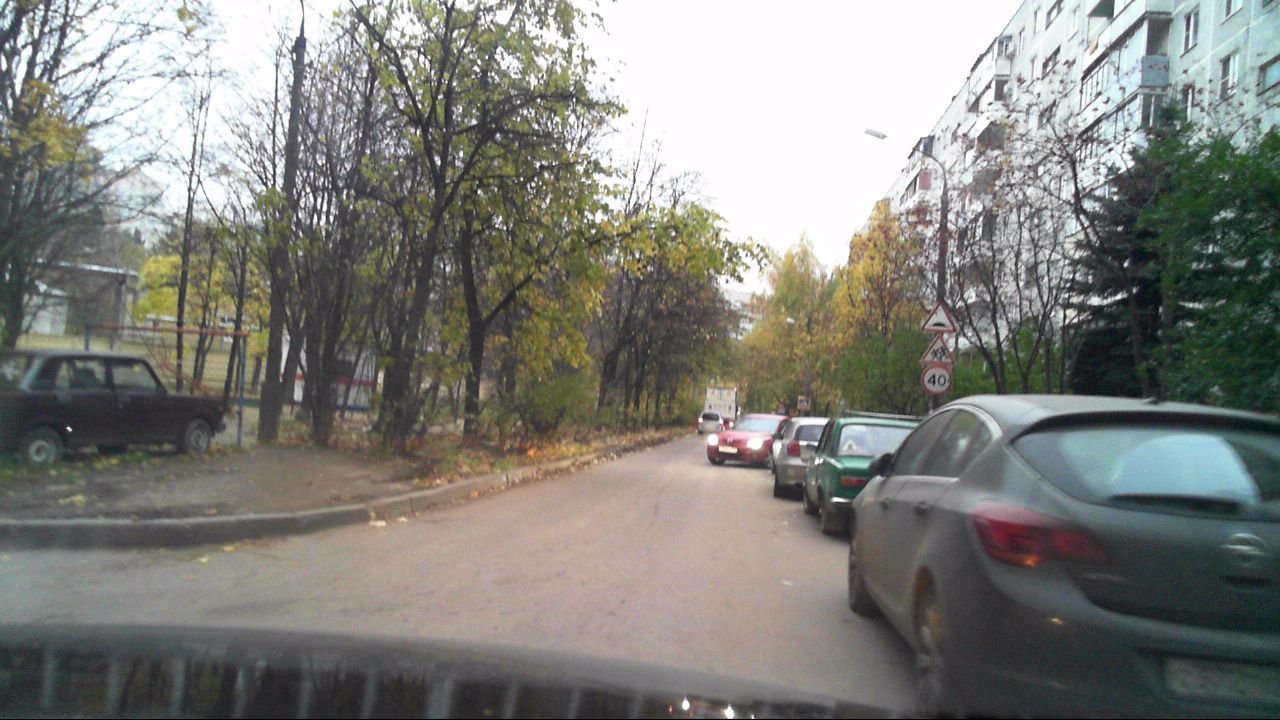speed_warning_40: (921, 366, 951, 393)
